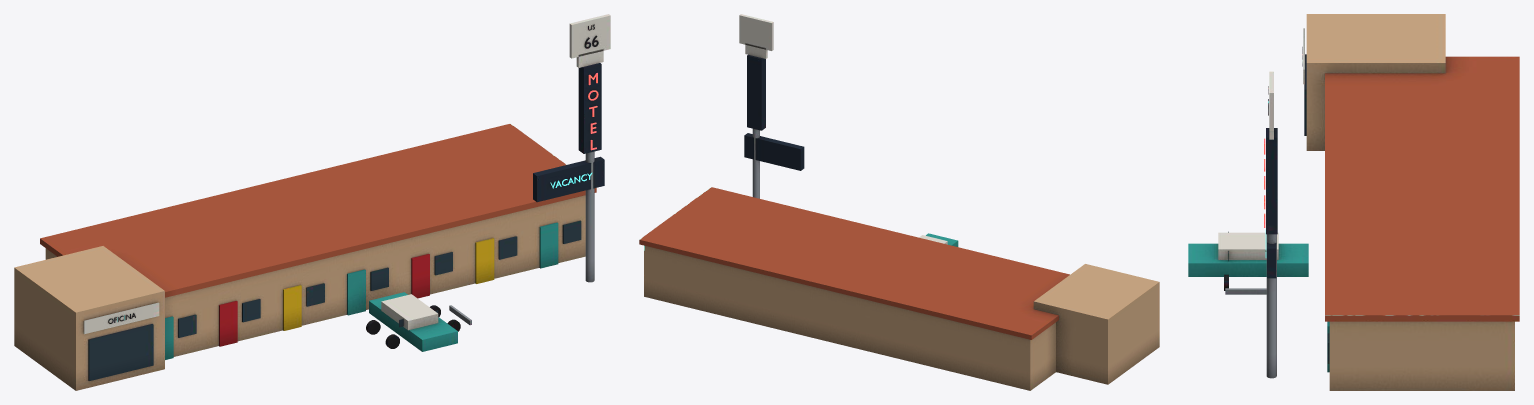
File: motel_66.glb
3 renders of one model, left to right at view 1: azimuth 30°, elevation 25°; view 2: azimuth 150°, elevation 25°; view 3: azimuth 270°, elevation 25°, orthographic. The views are drawn at different scales.
Parts seen in each view (by area): view 1: motel_66; view 2: motel_66; view 3: motel_66.
Part boxes in pixels (x1,y1,x2,y2): motel_66: [14, 14, 610, 390]; motel_66: [639, 14, 1159, 390]; motel_66: [1188, 14, 1519, 390].
Bounding box in the file's own units: 29.7 × 14 × 14.3.
1 material, 1 textured.
